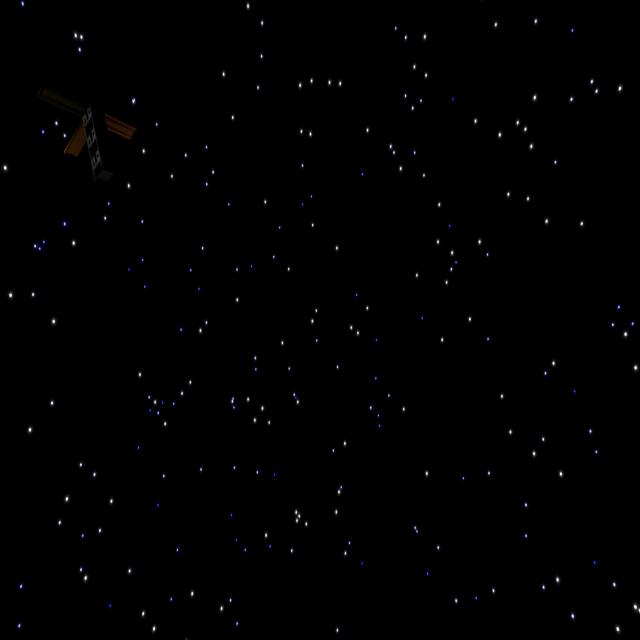satellite: (57, 100, 139, 184)
